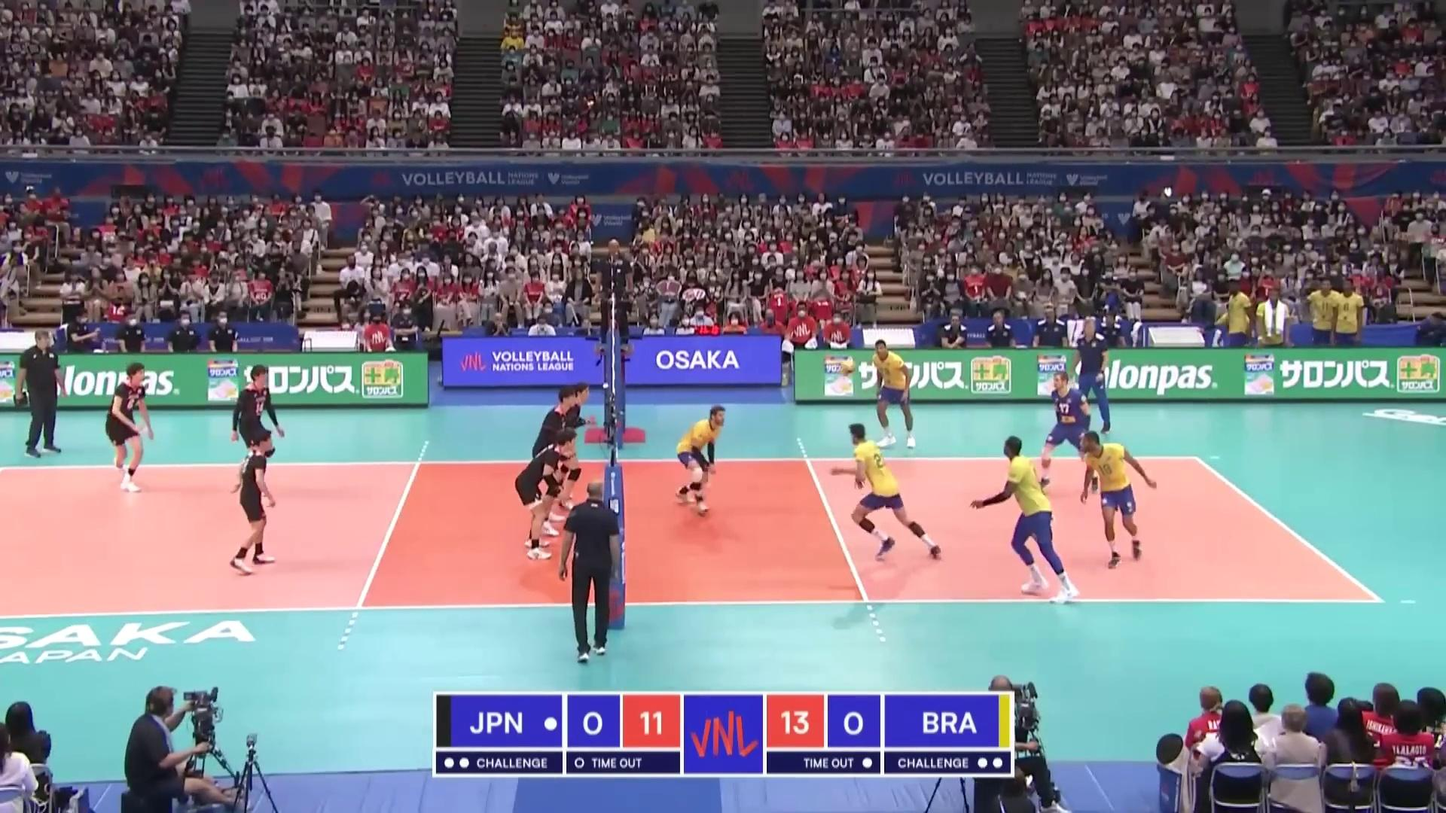player: (965, 439, 1075, 598), (833, 423, 936, 564), (1081, 430, 1155, 570), (519, 433, 583, 561), (1036, 373, 1098, 494), (228, 430, 278, 572), (533, 386, 576, 539), (228, 365, 281, 489), (103, 361, 150, 492), (673, 408, 727, 514), (870, 340, 915, 451), (555, 381, 591, 512)
refree: (559, 482, 623, 663), (591, 235, 634, 363)
